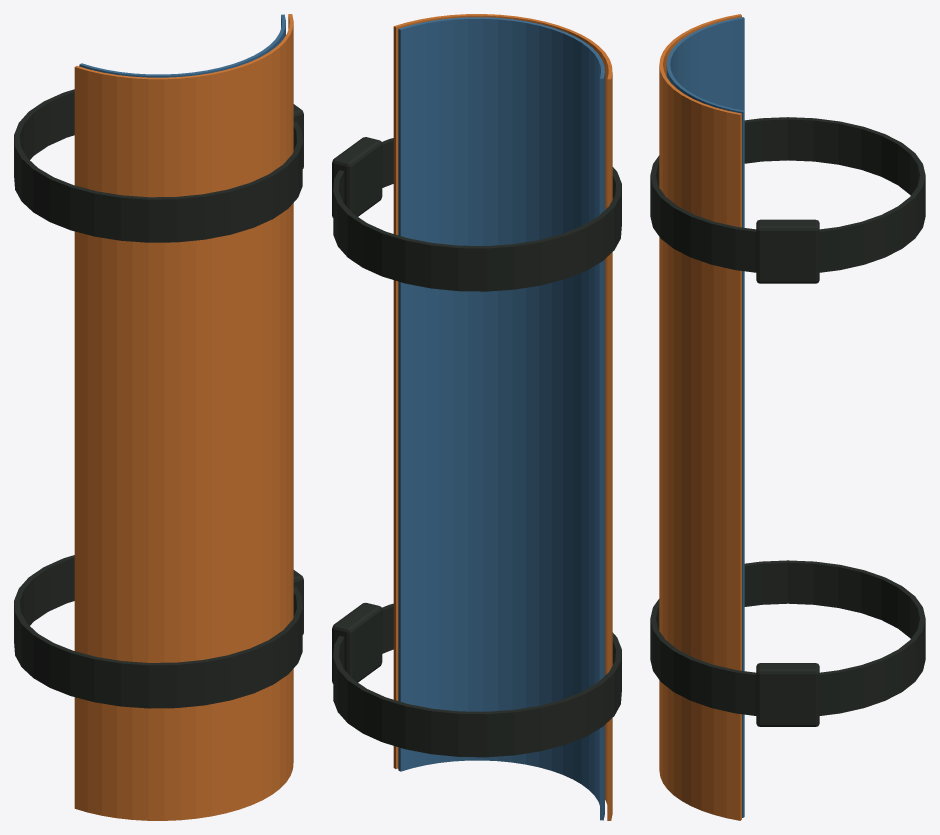
Rendered from BCMM_AppliedSplint.fbx.
The picture shows the model from 3 angles, left to right: view 1: azimuth 30°, elevation 25°; view 2: azimuth 150°, elevation 25°; view 3: azimuth 270°, elevation 25°; orthographic projection. The views are drawn at different scales.
Parts seen in each view (by area): view 1: BCMM_AppliedSplint; view 2: BCMM_AppliedSplint; view 3: BCMM_AppliedSplint.
Boxes of the visible parts, <box> form: BCMM_AppliedSplint: <box>14,14,303,820</box>; BCMM_AppliedSplint: <box>332,14,621,820</box>; BCMM_AppliedSplint: <box>650,14,925,820</box>.
Size of what is drawn, in the model's own units: 15.5 by 43 by 15.2.
